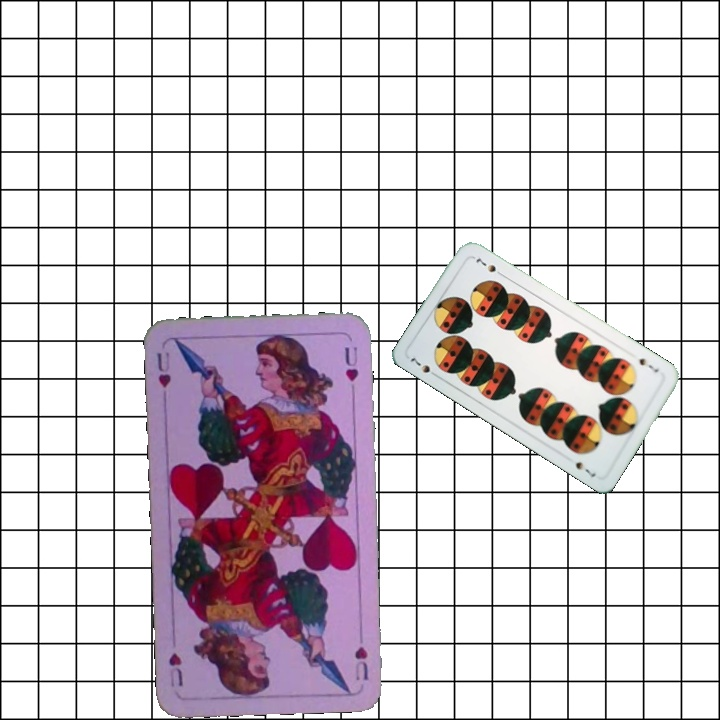HU: (153, 348, 174, 390), (350, 642, 371, 683)
S7: (406, 353, 441, 380), (635, 354, 661, 375)
